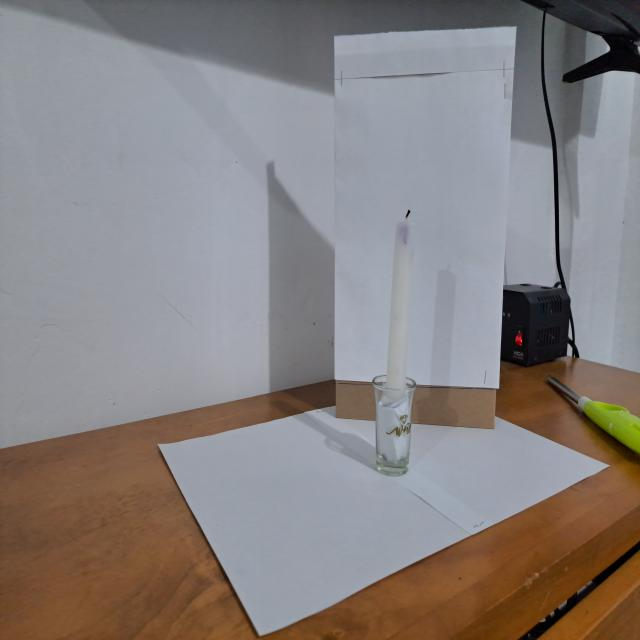candle: (370, 200, 420, 478)
wall: (331, 21, 520, 431)
